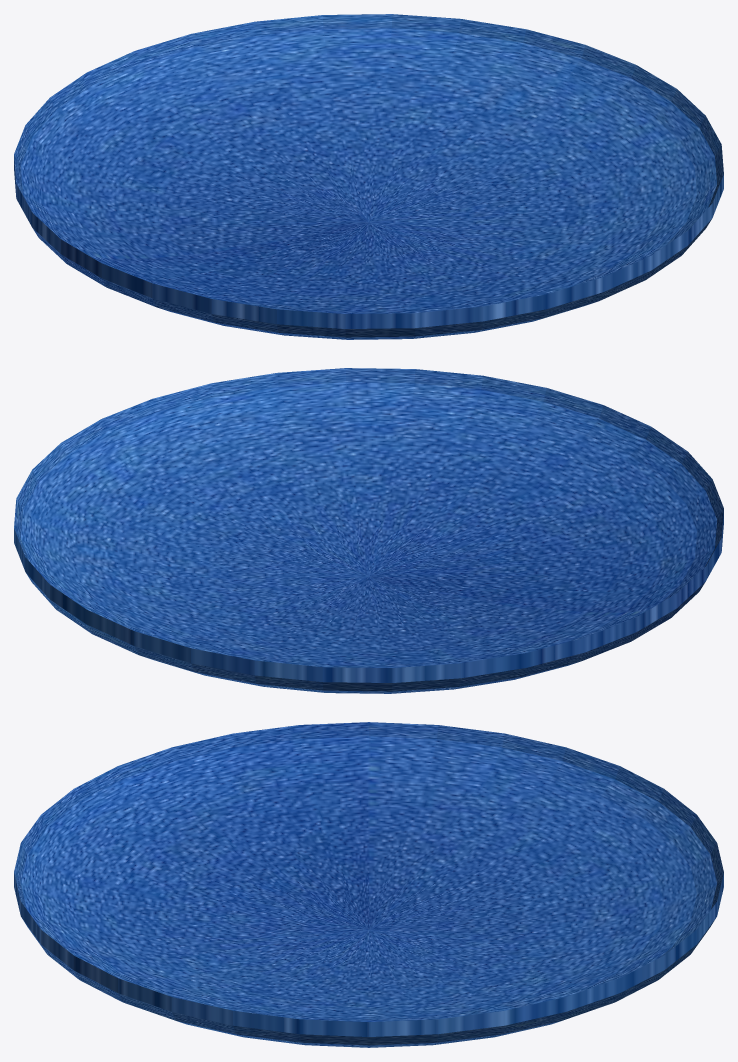
Rendered from talířVelky.fbx.
3 views of the same model, one above another, from view 1: azimuth 30°, elevation 25°; view 2: azimuth 150°, elevation 25°; view 3: azimuth 270°, elevation 25° (orthographic).
Parts seen in each view (by area): view 1: Sphere; view 2: Sphere; view 3: Sphere.
Boxes of the visible parts, x1,y1,x2,y2 form: Sphere: [14, 14, 723, 339]; Sphere: [14, 368, 723, 693]; Sphere: [14, 722, 723, 1047].
Bounding box in the file's own units: 51619 × 5848 × 51619.
